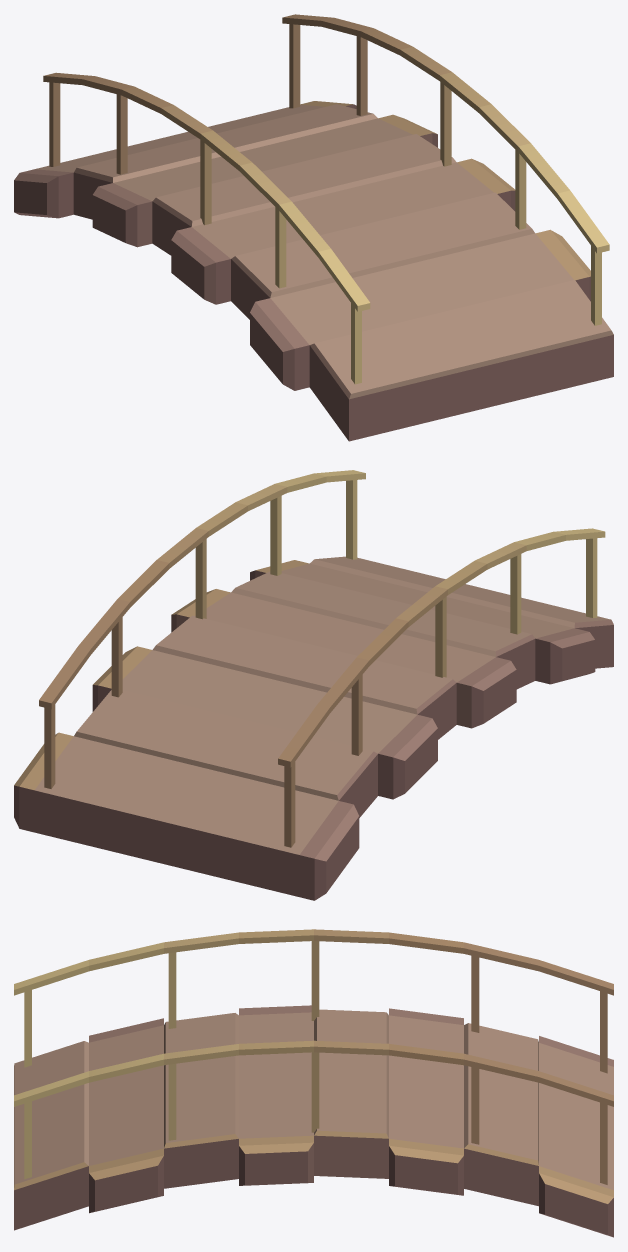
Rendered from woddenbridge.glb.
The picture shows the model from 3 angles, top to bottom: view 1: azimuth 30°, elevation 25°; view 2: azimuth 150°, elevation 25°; view 3: azimuth 270°, elevation 25°; orthographic projection. The views are drawn at different scales.
Visible parts, largest first — view 1: Woddenbridge.001; view 2: Woddenbridge.001; view 3: Woddenbridge.001.
Part boxes in pixels (x1,y1,x2,y2): Woddenbridge.001: [14, 14, 613, 441]; Woddenbridge.001: [14, 470, 613, 900]; Woddenbridge.001: [14, 929, 613, 1237].
Bounding box in the file's own units: 2.23 × 1.3 × 3.9.
